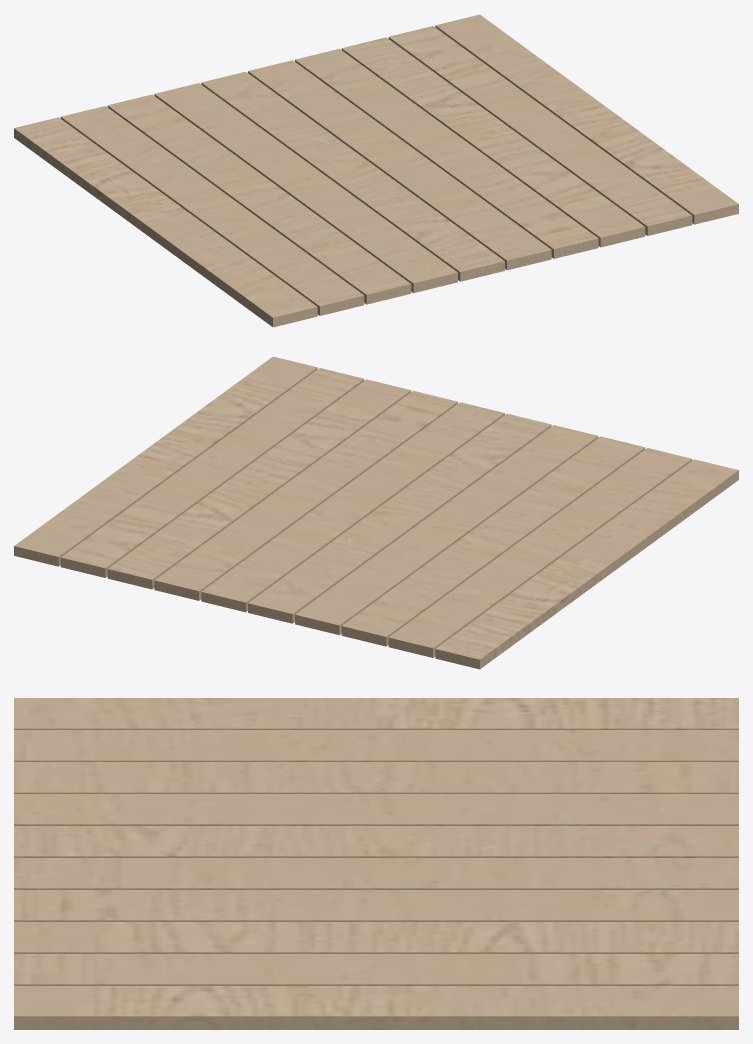
File: FK-DXH.08fa72cd.glb
3 views of the same model, one above another, from view 1: azimuth 30°, elevation 25°; view 2: azimuth 150°, elevation 25°; view 3: azimuth 270°, elevation 25° (orthographic). The views are drawn at different scales.
Visible parts, largest first — view 1: DT_half_floor_kit; view 2: DT_half_floor_kit; view 3: DT_half_floor_kit.
Boxes of the visible parts, box(x1,y1,x2,y2) form: DT_half_floor_kit: box(14, 14, 738, 327); DT_half_floor_kit: box(14, 356, 738, 669); DT_half_floor_kit: box(14, 698, 738, 1029).
Bounding box in the file's own units: 1.53 × 0.0305 × 1.48.
1 material, 1 textured.
